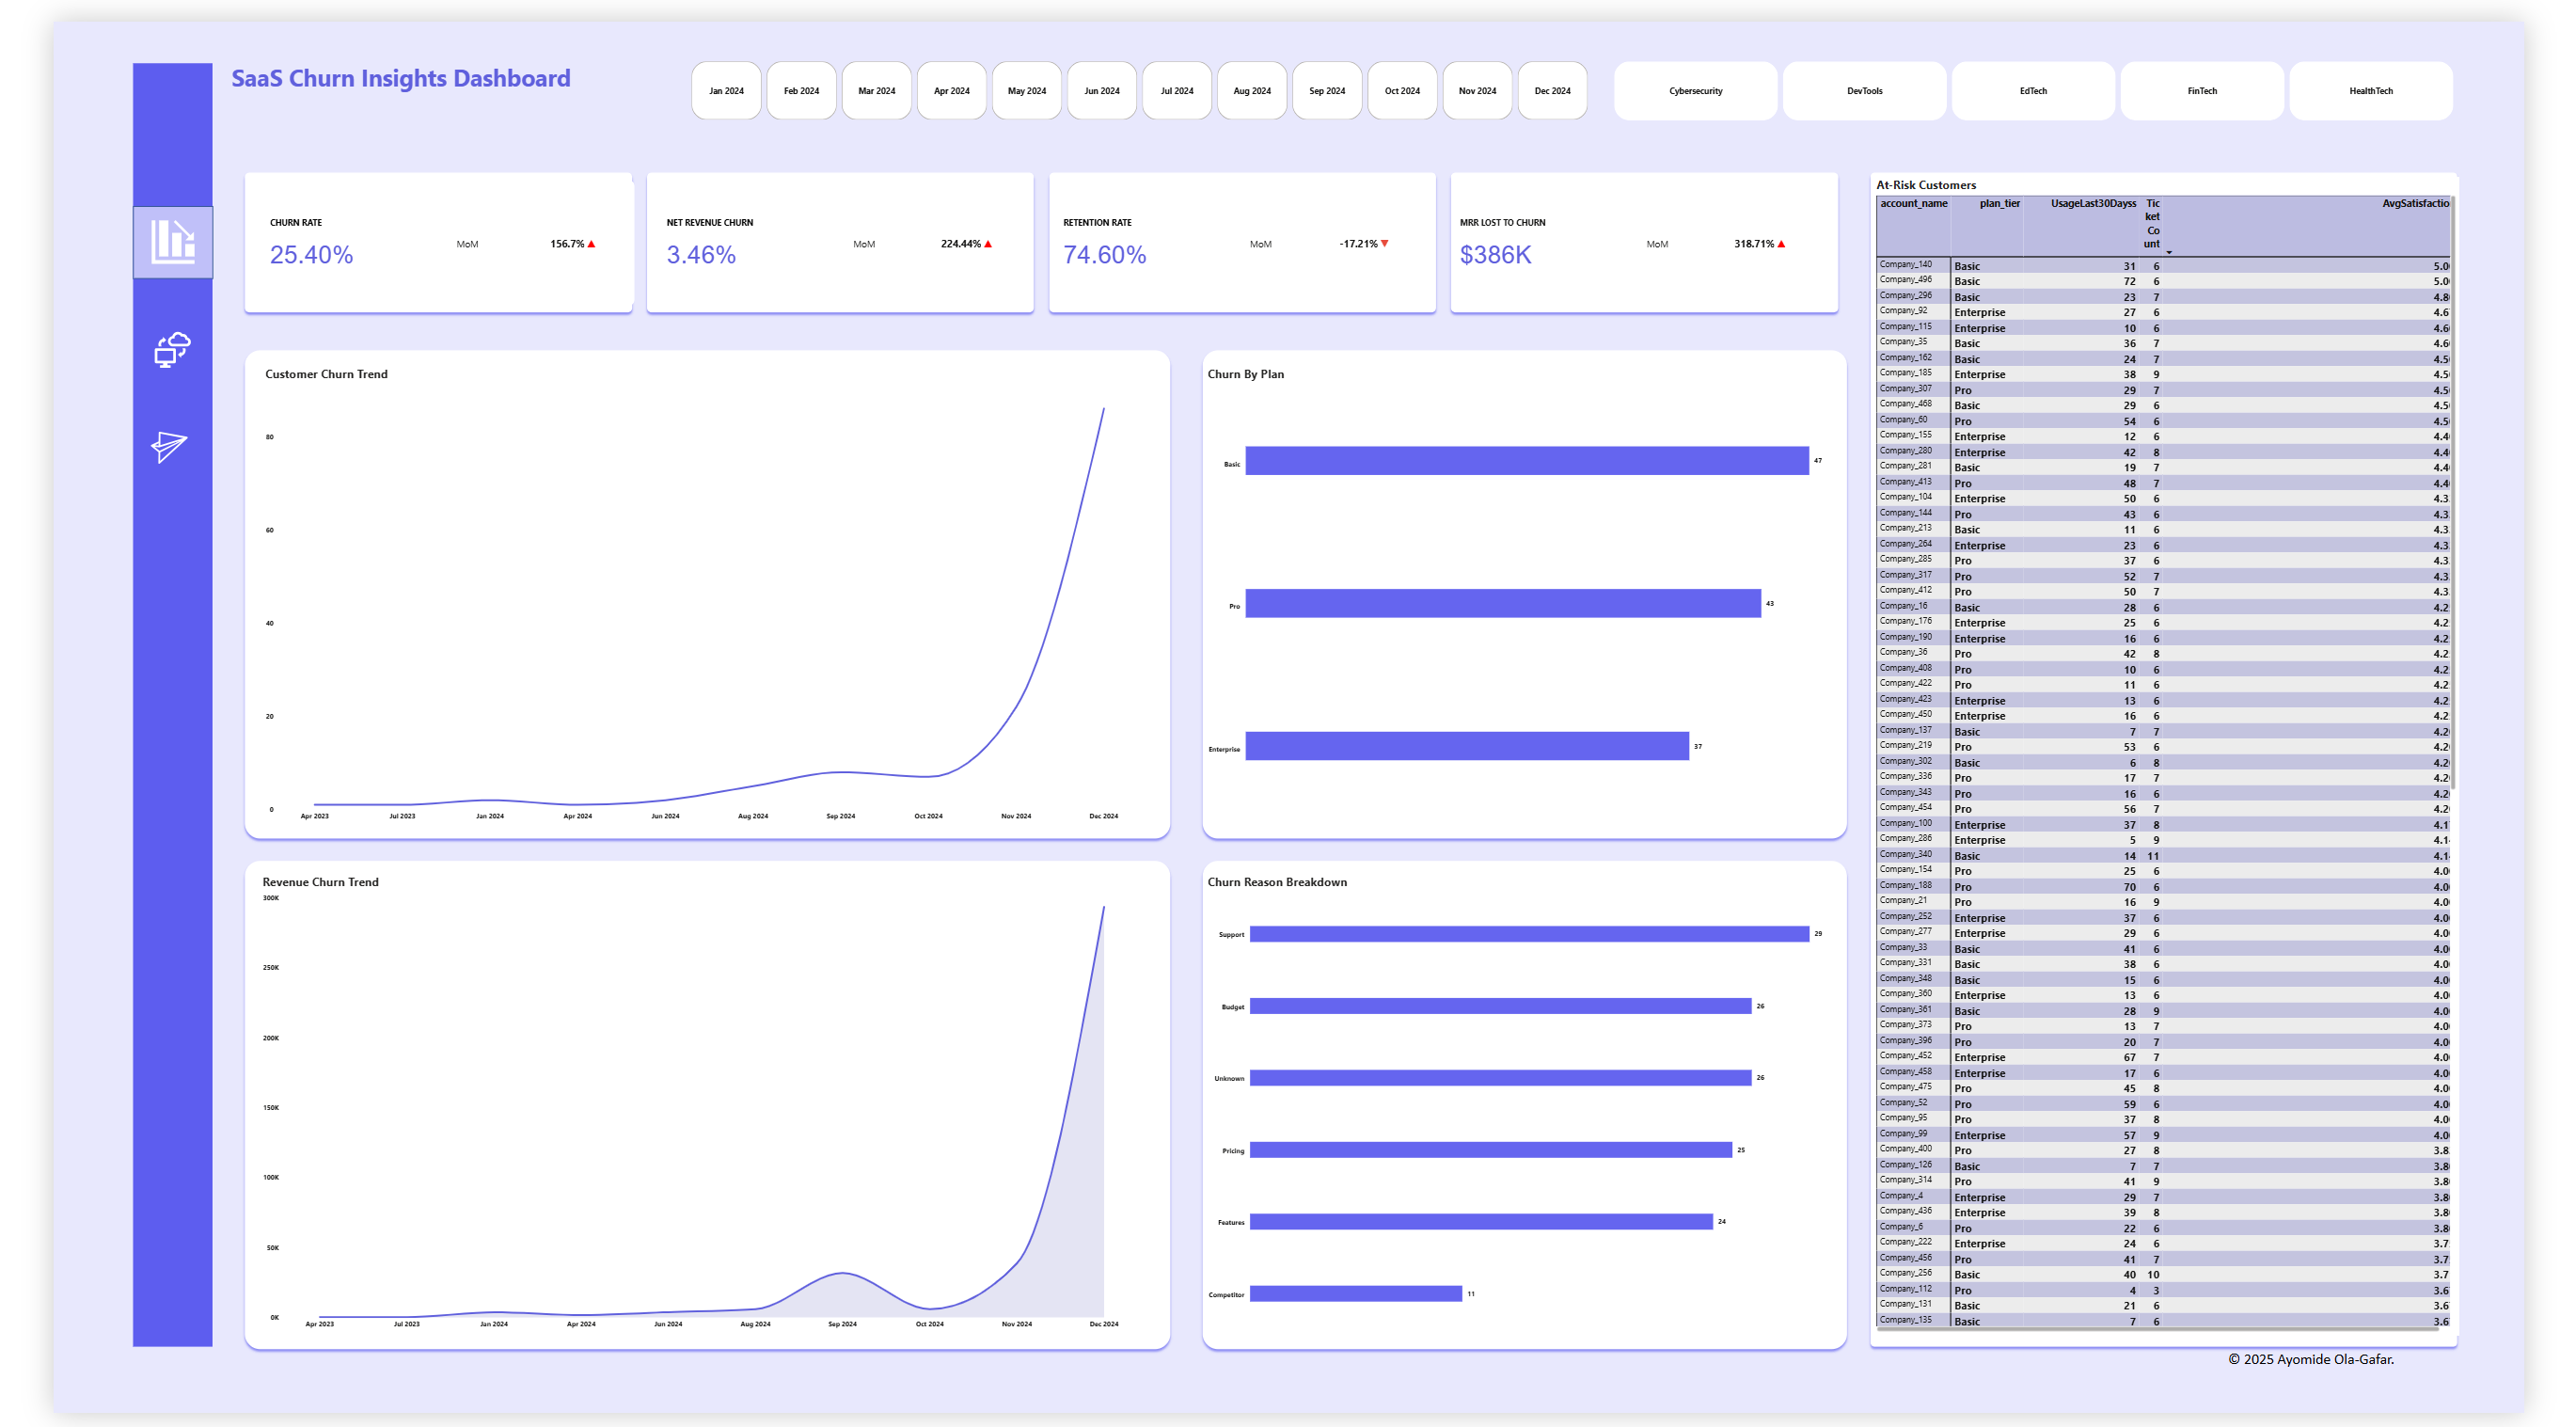

What the dashboard file says about the page in this screenshot:
{"tool":"powerbi","page":{"name":"Page 1","canvas":[3980,2240],"ordinal":0},"visuals":[{"type":"pivotTable","title":"At-Risk Customers","fields":{"Rows":["ravenstack_accounts.account_name"],"Values":["Min(ravenstack_accounts.plan_tier)","_Churn_deep_dive_charts_measures.UsageLast30Dayss","_Churn_deep_dive_charts_measures.TicketCount","_Churn_deep_dive_charts_measures.AvgSatisfaction"]},"box":[2930.4,252.2,943.5,1865.2],"z":6000},{"type":"lineChart","title":"Customer Churn Trend","fields":{"Y":["_Churn_deep_dive_charts_measures.Customer Churn Monthly"],"Category":["DateTable.MonthYear"]},"box":[334.8,556.5,1417.4,743.5],"z":10000},{"type":"lineChart","title":"Revenue Churn Trend","fields":{"Y":["_Churn_deep_dive_charts_measures.MRR Churn Monthly"],"Category":["DateTable.MonthYear"]},"box":[330.4,1373.9,1421.7,743.5],"z":11000},{"type":"cardVisual","fields":{"Data":["_Churn_Deep_Dive_Measures.M1 - Churn Rate %","_Churn_Deep_Dive_Measures.M2 - Net Revenue Churn %","_Churn_Deep_Dive_Measures.M3 - Retention Rate %","_Churn_Deep_Dive_Measures.M4 - MRR Lost to Churn ($)"]},"box":[330.4,252.2,2526.1,213],"z":12000},{"type":"clusteredBarChart","title":"Churn Reason Breakdown","fields":{"Category":["ravenstack_churn_events.reason_code"],"Y":["_Churn_deep_dive_charts_measures.Customer Churn by Reason 2"]},"box":[1856.5,1373.9,1000,743.5],"z":13000},{"type":"barChart","title":"Churn By Plan ","fields":{"Category":["ravenstack_accounts.plan_tier"],"Y":["_Churn_deep_dive_charts_measures.Customer Churn by Segment"]},"box":[1856.5,556.5,1000,743.5],"z":14000},{"type":"textbox","box":[282.6,60.9,739.1,139.1],"z":15000},{"type":"advancedSlicerVisual","fields":{"Values":["DateTable.MonthYear"]},"box":[1021.7,60.9,1456.5,104.3],"z":16000},{"type":"advancedSlicerVisual","fields":{"Values":["ravenstack_accounts.industry"]},"box":[2510,60,1365,105],"z":17000}]}

Visuals, with their boxes on the page's 3980x2240 design canvas (x1, y1, x2, y2). These are canvas units, not pixel positions in the 2576x1427 screenshot, which may show the page scaled, cropped or inside an application window:
"At-Risk Customers" pivotTable: (2930, 252, 3874, 2117)
"Customer Churn Trend" lineChart: (335, 556, 1752, 1300)
"Revenue Churn Trend" lineChart: (330, 1374, 1752, 2117)
cardVisual - _Churn_Deep_Dive_Measures.M1 - Churn Rate % x _Churn_Deep_Dive_Measures.M2 - Net Revenue Churn %: (330, 252, 2856, 465)
"Churn Reason Breakdown" clusteredBarChart: (1856, 1374, 2856, 2117)
"Churn By Plan " barChart: (1856, 556, 2856, 1300)
textbox: (283, 61, 1022, 200)
advancedSlicerVisual - DateTable.MonthYear: (1022, 61, 2478, 165)
advancedSlicerVisual - ravenstack_accounts.industry: (2510, 60, 3875, 165)
